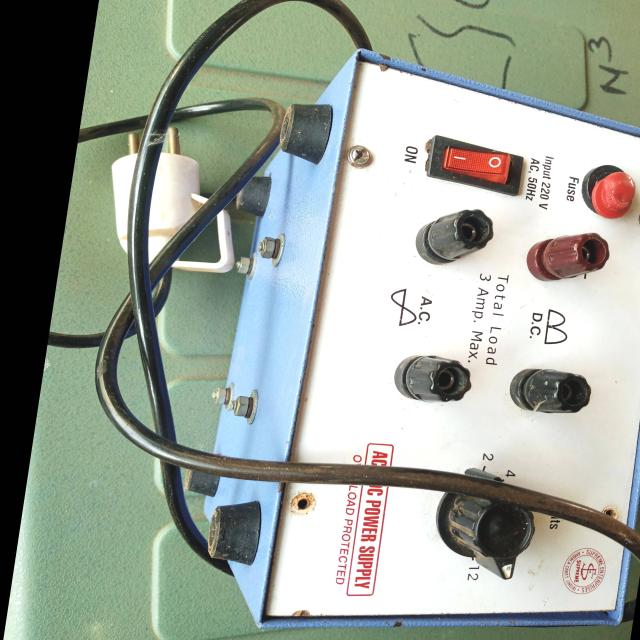AC and DC Power Supply 12 V: (178, 44, 640, 640)
